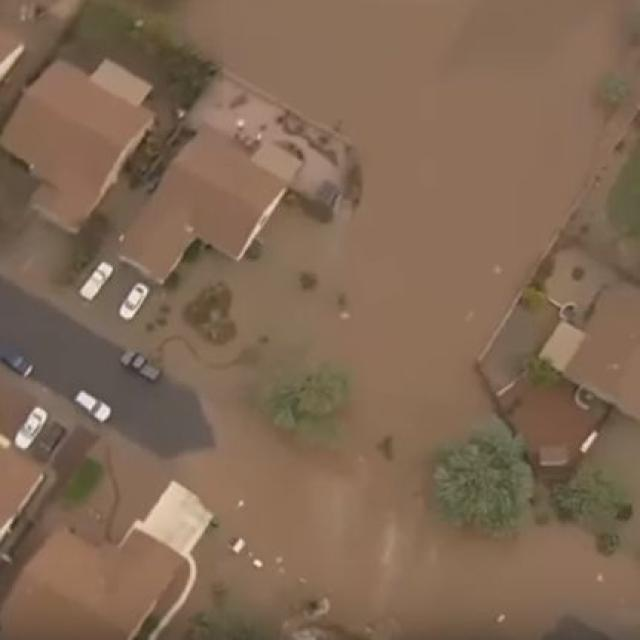flooded_areas: (113, 7, 635, 634)
